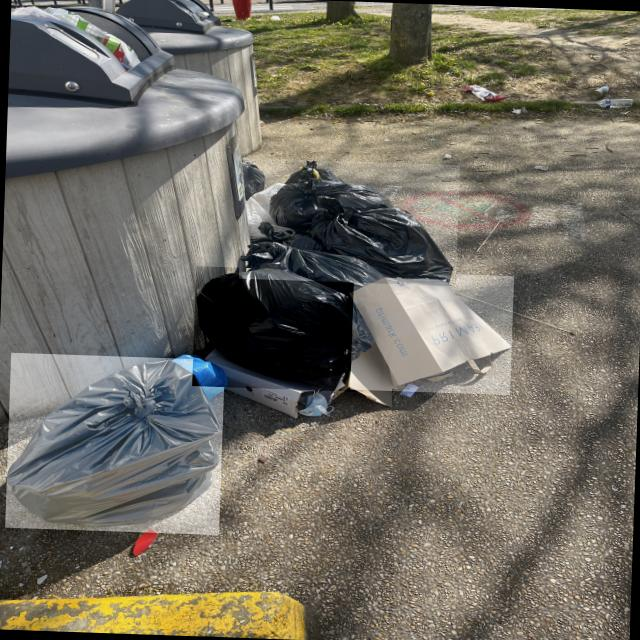Garbage bag: (5, 352, 224, 534), (238, 157, 460, 286), (192, 266, 366, 391)
Paper: (350, 270, 514, 394)
